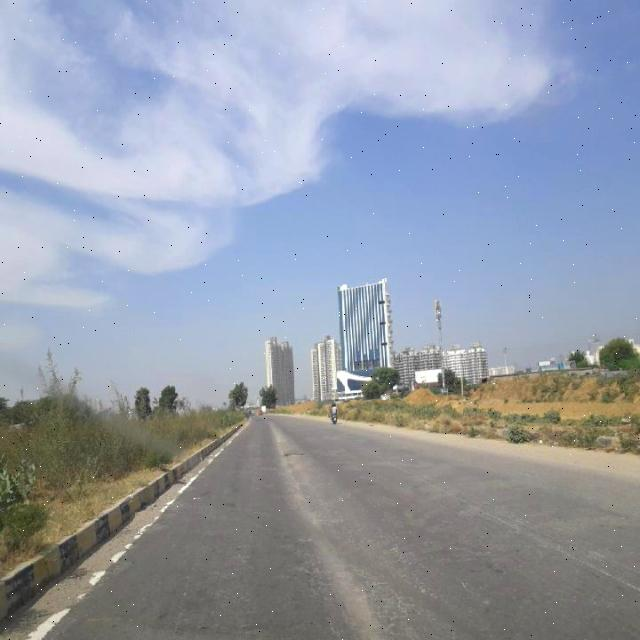D20: (288, 504, 436, 636)
D40: (279, 447, 309, 461)
